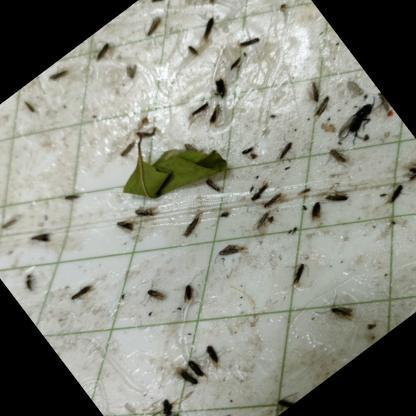prays_oleae: (138, 272, 183, 323), (323, 292, 363, 335), (188, 8, 228, 50), (22, 218, 60, 258), (86, 32, 124, 70), (320, 140, 356, 180), (63, 272, 102, 308), (282, 257, 318, 294), (173, 276, 208, 314), (232, 22, 267, 58), (379, 176, 414, 212), (129, 198, 164, 233), (168, 356, 202, 391), (324, 182, 356, 216), (368, 86, 398, 122), (138, 13, 170, 46), (198, 340, 229, 374), (202, 100, 234, 132), (110, 210, 141, 243), (13, 266, 44, 299), (271, 134, 302, 167), (306, 90, 338, 121), (301, 193, 332, 224), (172, 213, 204, 243), (56, 182, 86, 214), (46, 62, 78, 92), (150, 385, 180, 416), (216, 235, 245, 266), (247, 177, 278, 206), (186, 355, 212, 382), (222, 50, 248, 76), (302, 77, 327, 103), (186, 98, 212, 122), (206, 174, 230, 200), (401, 154, 416, 186), (147, 0, 170, 11), (184, 42, 199, 58), (131, 0, 152, 10)
